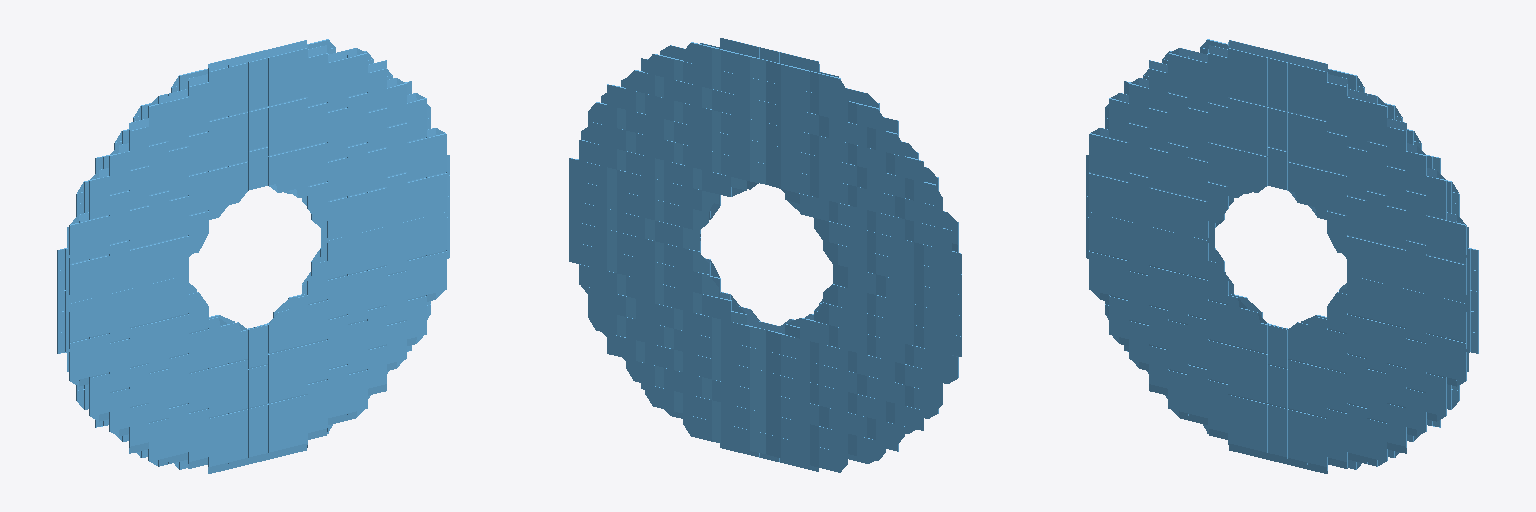
File: ESminus.obj
3 views of the same model, side by side, from view 1: azimuth 30°, elevation 25°; view 2: azimuth 150°, elevation 25°; view 3: azimuth 330°, elevation 25° (orthographic).
Visible parts, largest first — view 1: Mesh187 esalgo_SFLX0a_materials_E_Air31 lp_esalgo_SFLX0a29 Model, Mesh195 esalgo_SFLX0a_materials_E_Air35 lp_esalgo_SFLX0a33 Model, Mesh167 esalgo_SFLX0a_materials_E_Air21 lp_esalgo_SFLX0a19 Model, Mesh175 esalgo_SFLX0a_materials_E_Air25 lp_esalgo_SFLX0a23 Model, Mesh199 esalgo_SFLX0a_materials_E_Air37 lp_esalgo_SFLX0a35 Model, Mesh159 esalgo_SFLX0a_materials_E_Air17 lp_esalgo_SFLX0a15 Model, Mesh155 esalgo_SFLX0a_materials_E_Air15 lp_esalgo_SFLX0a13 Model, Mesh147 esalgo_SFLX0a_materials_E_Air11 lp_esalgo_SFLX0a9 Model, Mesh189 esalgo_SFLX0a_materials_E_Air32 lp_esalgo_SFLX0a30 Model, Mesh197 esalgo_SFLX0a_materials_E_Air36 lp_esalgo_SFLX0a34 Model, Mesh169 esalgo_SFLX0a_materials_E_Air22 lp_esalgo_SFLX0a20 Model, Mesh177 esalgo_SFLX0a_materials_E_Air26 lp_esalgo_SFLX0a24 Model (+28 smaller); view 2: Mesh395 esalgo_SFLX0a_materials_E_Air57 lp_esalgo_SFLY0a12 Model, Mesh447 esalgo_SFLX0a_materials_E_Air83 lp_esalgo_SFLY0a38 Model, Mesh445 esalgo_SFLX0a_materials_E_Air82 lp_esalgo_SFLY0a37 Model, Mesh397 esalgo_SFLX0a_materials_E_Air58 lp_esalgo_SFLY0a13 Model, Mesh225 esalgo_SFLX0c_materials_E_Air1 lp_esalgo_SFLY0c2 Model, Mesh243 esalgo_SFLX0b_materials_E_Air lp_esalgo_SFLY0b1 Model, Mesh245 esalgo_SFLX0b_materials_E_Air1 lp_esalgo_SFLY0b2 Model, Mesh223 esalgo_SFLX0c_materials_E_Air lp_esalgo_SFLY0c1 Model, Mesh381 esalgo_SFLX0a_materials_E_Air50 lp_esalgo_SFLY0a5 Model, Mesh383 esalgo_SFLX0a_materials_E_Air51 lp_esalgo_SFLY0a6 Model, Mesh441 esalgo_SFLX0a_materials_E_Air80 lp_esalgo_SFLY0a35 Model, Mesh407 esalgo_SFLX0a_materials_E_Air63 lp_esalgo_SFLY0a18 Model (+28 smaller); view 3: Mesh159 esalgo_SFLX0a_materials_E_Air17 lp_esalgo_SFLX0a15 Model, Mesh155 esalgo_SFLX0a_materials_E_Air15 lp_esalgo_SFLX0a13 Model, Mesh179 esalgo_SFLX0a_materials_E_Air27 lp_esalgo_SFLX0a25 Model, Mesh175 esalgo_SFLX0a_materials_E_Air25 lp_esalgo_SFLX0a23 Model, Mesh147 esalgo_SFLX0a_materials_E_Air11 lp_esalgo_SFLX0a9 Model, Mesh187 esalgo_SFLX0a_materials_E_Air31 lp_esalgo_SFLX0a29 Model, Mesh195 esalgo_SFLX0a_materials_E_Air35 lp_esalgo_SFLX0a33 Model, Mesh199 esalgo_SFLX0a_materials_E_Air37 lp_esalgo_SFLX0a35 Model, Mesh161 esalgo_SFLX0a_materials_E_Air18 lp_esalgo_SFLX0a16 Model, Mesh157 esalgo_SFLX0a_materials_E_Air16 lp_esalgo_SFLX0a14 Model, Mesh181 esalgo_SFLX0a_materials_E_Air28 lp_esalgo_SFLX0a26 Model, Mesh177 esalgo_SFLX0a_materials_E_Air26 lp_esalgo_SFLX0a24 Model (+28 smaller).
Part boxes in pixels (x1,y1,x2,y2): Mesh187 esalgo_SFLX0a_materials_E_Air31 lp_esalgo_SFLX0a29 Model: (208, 59, 228, 120); Mesh195 esalgo_SFLX0a_materials_E_Air35 lp_esalgo_SFLX0a33 Model: (188, 74, 208, 134); Mesh167 esalgo_SFLX0a_materials_E_Air21 lp_esalgo_SFLX0a19 Model: (268, 45, 287, 105); Mesh175 esalgo_SFLX0a_materials_E_Air25 lp_esalgo_SFLX0a23 Model: (248, 50, 267, 110); Mesh199 esalgo_SFLX0a_materials_E_Air37 lp_esalgo_SFLX0a35 Model: (168, 89, 188, 149); Mesh159 esalgo_SFLX0a_materials_E_Air17 lp_esalgo_SFLX0a15 Model: (288, 40, 307, 100); Mesh155 esalgo_SFLX0a_materials_E_Air15 lp_esalgo_SFLX0a13 Model: (308, 45, 327, 105); Mesh147 esalgo_SFLX0a_materials_E_Air11 lp_esalgo_SFLX0a9 Model: (328, 50, 347, 110); Mesh189 esalgo_SFLX0a_materials_E_Air32 lp_esalgo_SFLX0a30 Model: (208, 414, 228, 473); Mesh197 esalgo_SFLX0a_materials_E_Air36 lp_esalgo_SFLX0a34 Model: (188, 409, 208, 468); Mesh169 esalgo_SFLX0a_materials_E_Air22 lp_esalgo_SFLX0a20 Model: (268, 400, 287, 459); Mesh177 esalgo_SFLX0a_materials_E_Air26 lp_esalgo_SFLX0a24 Model: (248, 404, 267, 464); Mesh395 esalgo_SFLX0a_materials_E_Air57 lp_esalgo_SFLY0a12 Model: (712, 89, 765, 121); Mesh447 esalgo_SFLX0a_materials_E_Air83 lp_esalgo_SFLY0a38 Model: (712, 380, 765, 412); Mesh445 esalgo_SFLX0a_materials_E_Air82 lp_esalgo_SFLY0a37 Model: (766, 392, 818, 425); Mesh397 esalgo_SFLX0a_materials_E_Air58 lp_esalgo_SFLY0a13 Model: (766, 102, 818, 135); Mesh225 esalgo_SFLX0c_materials_E_Air1 lp_esalgo_SFLY0c2 Model: (664, 264, 718, 297); Mesh243 esalgo_SFLX0b_materials_E_Air lp_esalgo_SFLY0b1 Model: (664, 181, 718, 212); Mesh245 esalgo_SFLX0b_materials_E_Air1 lp_esalgo_SFLY0b2 Model: (814, 302, 866, 333); Mesh223 esalgo_SFLX0c_materials_E_Air lp_esalgo_SFLY0c1 Model: (814, 218, 866, 250); Mesh381 esalgo_SFLX0a_materials_E_Air50 lp_esalgo_SFLY0a5 Model: (569, 158, 616, 189); Mesh383 esalgo_SFLX0a_materials_E_Air51 lp_esalgo_SFLY0a6 Model: (914, 242, 961, 273); Mesh441 esalgo_SFLX0a_materials_E_Air80 lp_esalgo_SFLY0a35 Model: (819, 406, 866, 437); Mesh407 esalgo_SFLX0a_materials_E_Air63 lp_esalgo_SFLY0a18 Model: (569, 220, 616, 251); Mesh159 esalgo_SFLX0a_materials_E_Air17 lp_esalgo_SFLX0a15 Model: (1307, 59, 1327, 120); Mesh155 esalgo_SFLX0a_materials_E_Air15 lp_esalgo_SFLX0a13 Model: (1327, 74, 1347, 134); Mesh179 esalgo_SFLX0a_materials_E_Air27 lp_esalgo_SFLX0a25 Model: (1248, 45, 1267, 105); Mesh175 esalgo_SFLX0a_materials_E_Air25 lp_esalgo_SFLX0a23 Model: (1268, 50, 1287, 110); Mesh147 esalgo_SFLX0a_materials_E_Air11 lp_esalgo_SFLX0a9 Model: (1347, 89, 1367, 149); Mesh187 esalgo_SFLX0a_materials_E_Air31 lp_esalgo_SFLX0a29 Model: (1228, 40, 1247, 100); Mesh195 esalgo_SFLX0a_materials_E_Air35 lp_esalgo_SFLX0a33 Model: (1208, 45, 1227, 105); Mesh199 esalgo_SFLX0a_materials_E_Air37 lp_esalgo_SFLX0a35 Model: (1188, 50, 1207, 110); Mesh161 esalgo_SFLX0a_materials_E_Air18 lp_esalgo_SFLX0a16 Model: (1307, 414, 1327, 473); Mesh157 esalgo_SFLX0a_materials_E_Air16 lp_esalgo_SFLX0a14 Model: (1327, 409, 1347, 468); Mesh181 esalgo_SFLX0a_materials_E_Air28 lp_esalgo_SFLX0a26 Model: (1248, 400, 1267, 459); Mesh177 esalgo_SFLX0a_materials_E_Air26 lp_esalgo_SFLX0a24 Model: (1268, 404, 1287, 464).
Size of the model in its own units: 2.52 by 2.52 by 0.0554.